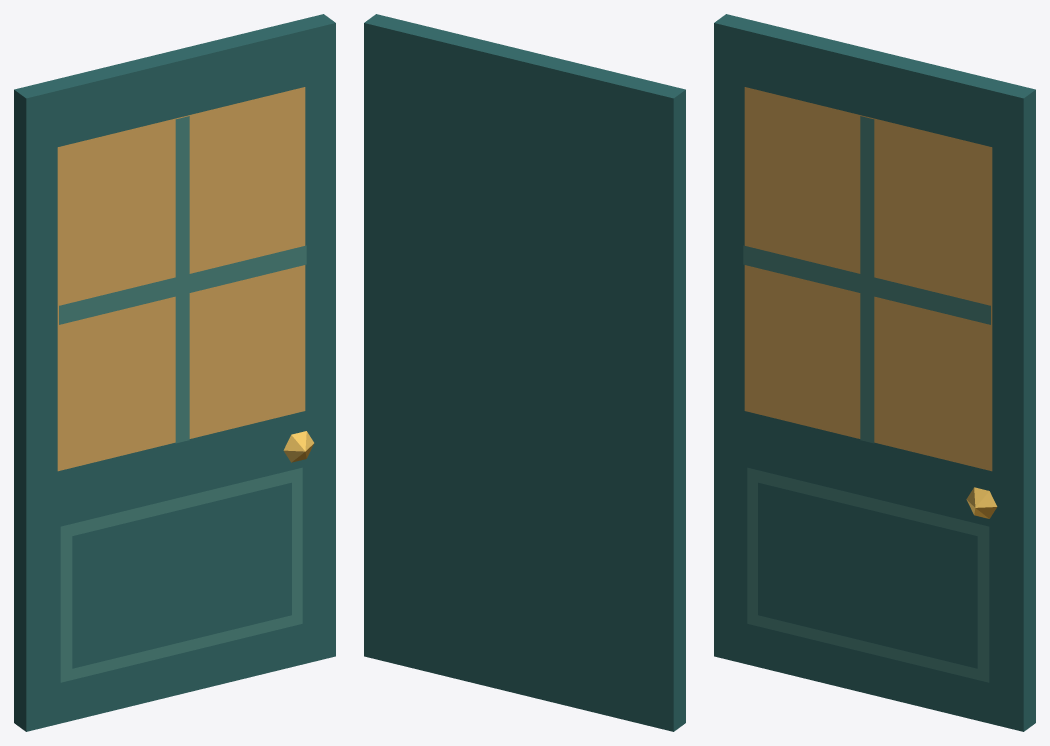
The model's file is door.glb.
3 views of the same model, side by side, from view 1: azimuth 30°, elevation 25°; view 2: azimuth 150°, elevation 25°; view 3: azimuth 330°, elevation 25° (orthographic).
Visible parts, largest first — view 1: door; view 2: door; view 3: door.
Boxes of the visible parts, left/top/right/bottom form: door: left=14, top=14, right=335, bottom=731; door: left=364, top=14, right=685, bottom=731; door: left=714, top=14, right=1035, bottom=731.
Bounding box in the file's own units: 1.1 × 2.15 × 0.13.
1 material, 1 textured.
